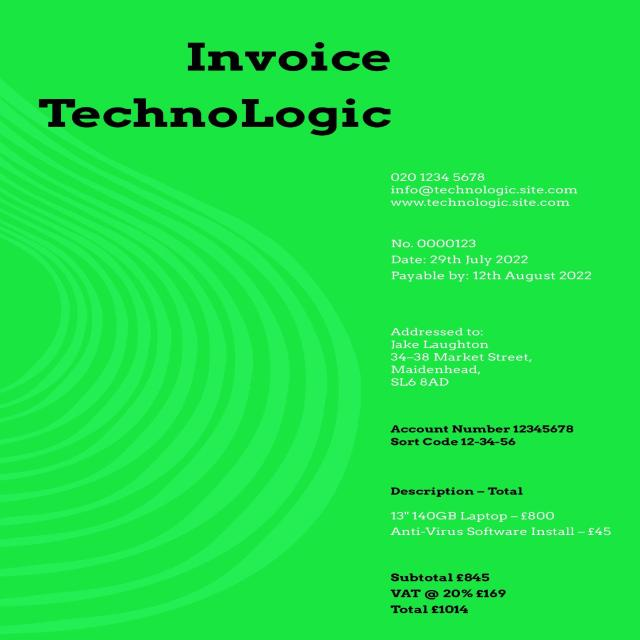paragraph: (32, 87, 397, 138), (383, 480, 627, 548), (386, 228, 605, 295), (170, 24, 406, 80), (381, 153, 588, 215), (381, 322, 554, 396), (385, 418, 595, 454), (382, 570, 515, 620)
